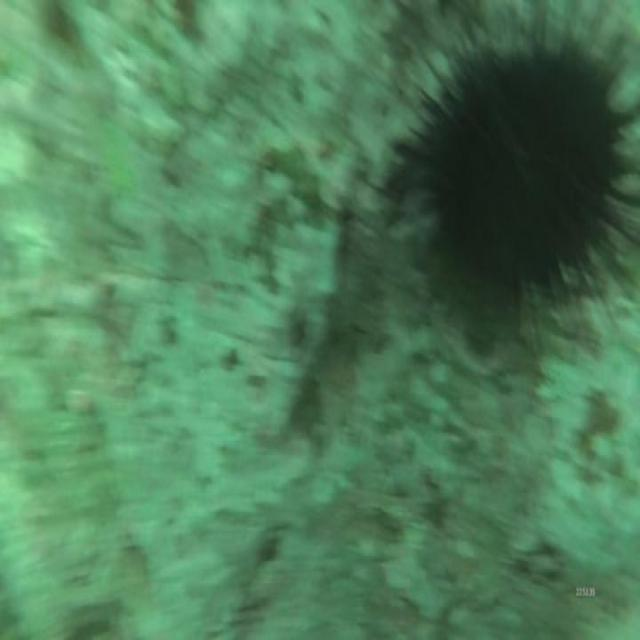echinus: (416, 48, 639, 292)
